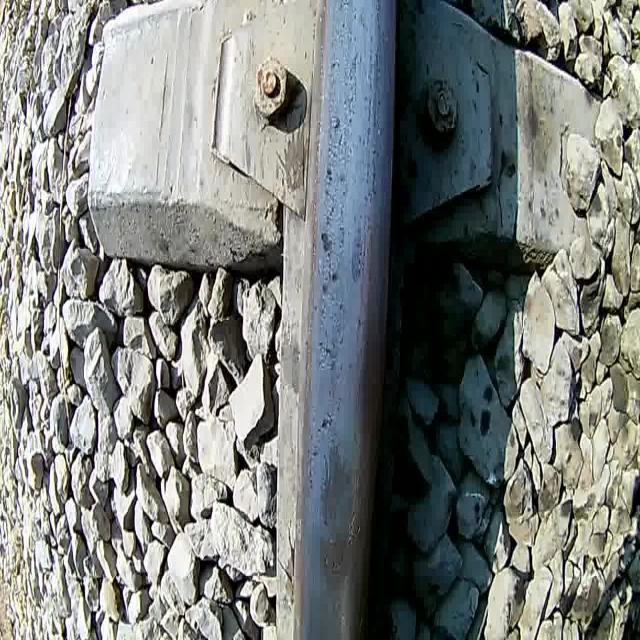Squats: (317, 438, 361, 598)
